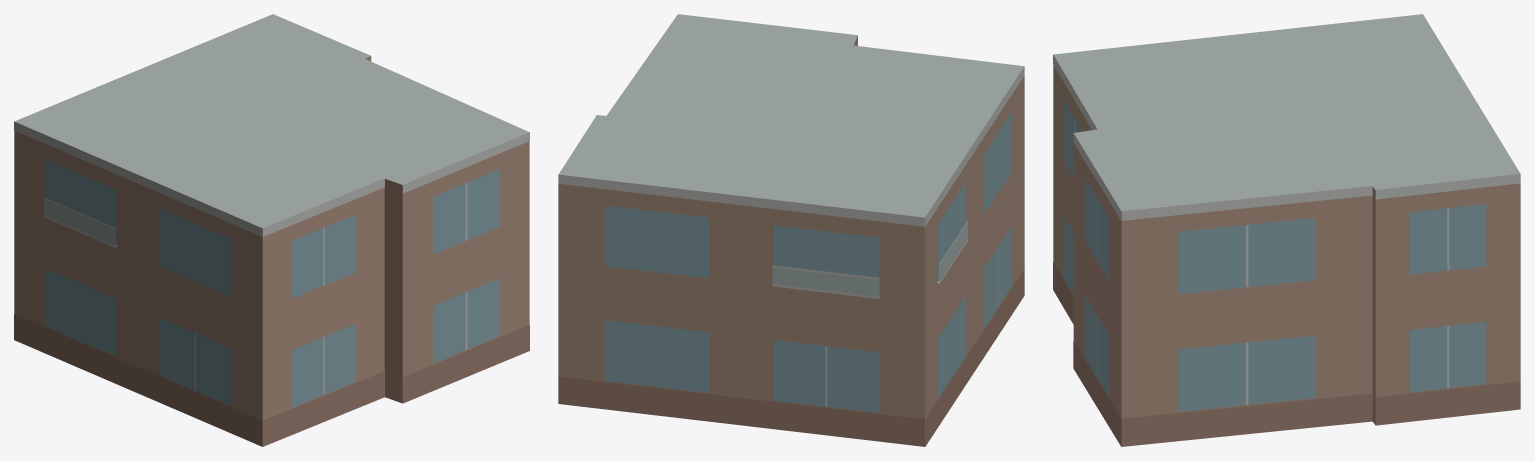
Rendered from survey-upis-32784155.glb.
3 views of the same model, side by side, from view 1: azimuth 30°, elevation 25°; view 2: azimuth 150°, elevation 25°; view 3: azimuth 270°, elevation 25° (orthographic). The views are drawn at different scales.
Parts seen in each view (by area): view 1: survey-upis-32784155.tmp; view 2: survey-upis-32784155.tmp; view 3: survey-upis-32784155.tmp.
Part boxes in pixels (x1=…): survey-upis-32784155.tmp: x1=14, y1=14, x2=529, y2=446; survey-upis-32784155.tmp: x1=558, y1=14, x2=1024, y2=446; survey-upis-32784155.tmp: x1=1053, y1=14, x2=1520, y2=446.
Bounding box in the file's own units: 10.98 × 6.1 × 10.99.
